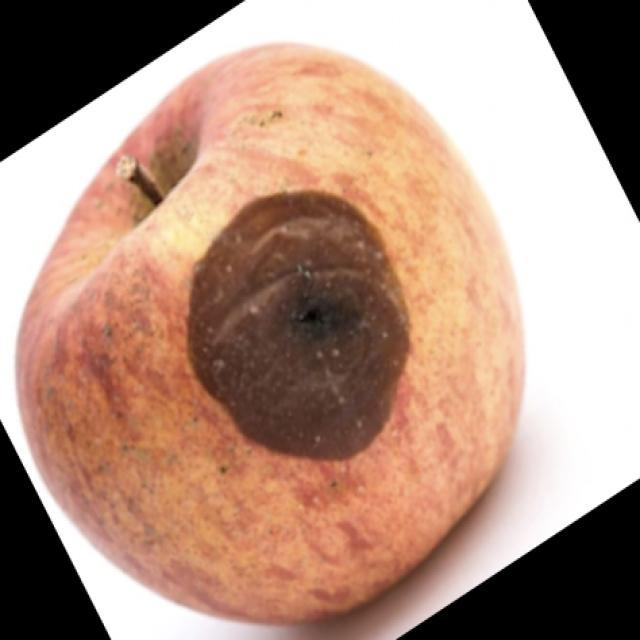Rotten: (32, 43, 520, 617)
